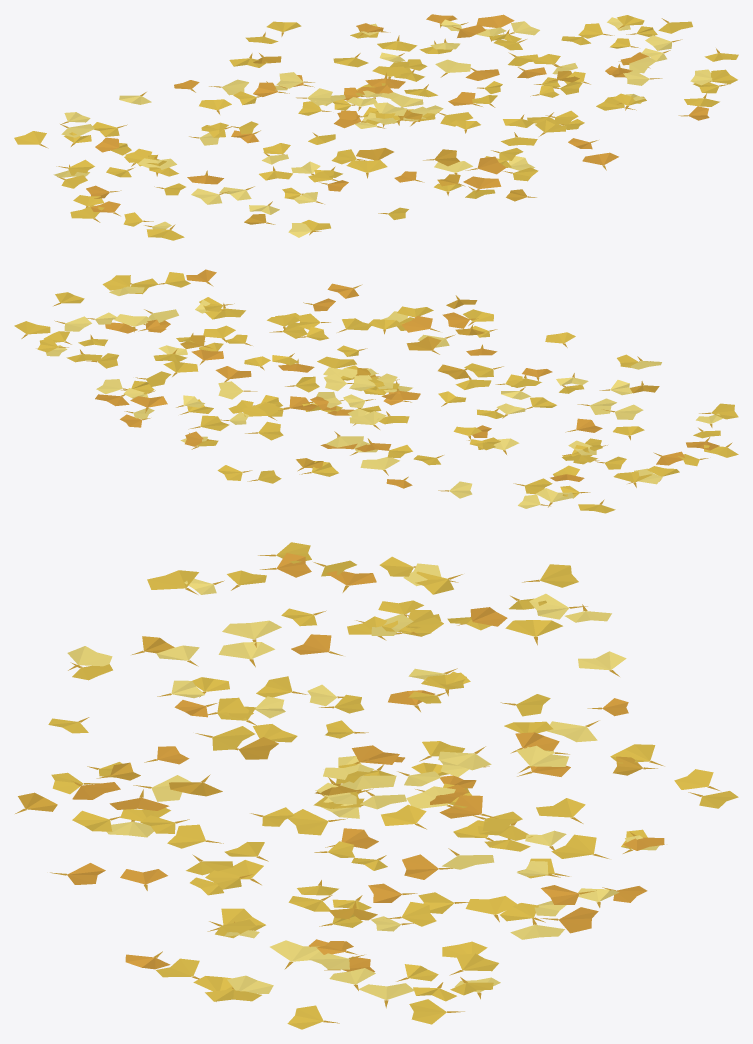
Rendered from SC_Nat_Fallen_Leaves_Patch.gltf.
3 views of the same model, one above another, from view 1: azimuth 30°, elevation 25°; view 2: azimuth 150°, elevation 25°; view 3: azimuth 270°, elevation 25° (orthographic). The views are drawn at different scales.
Parts seen in each view (by area): view 1: SC_Nat_Fallen_Leaves_Patch; view 2: SC_Nat_Fallen_Leaves_Patch; view 3: SC_Nat_Fallen_Leaves_Patch.
Part boxes in pixels (bbox=[...]): SC_Nat_Fallen_Leaves_Patch: bbox=[14, 14, 738, 240]; SC_Nat_Fallen_Leaves_Patch: bbox=[14, 269, 738, 513]; SC_Nat_Fallen_Leaves_Patch: bbox=[15, 542, 738, 1029].
Size of the model in its own units: 2.12 by 0.0303 by 1.34.
1 material, 1 textured.
